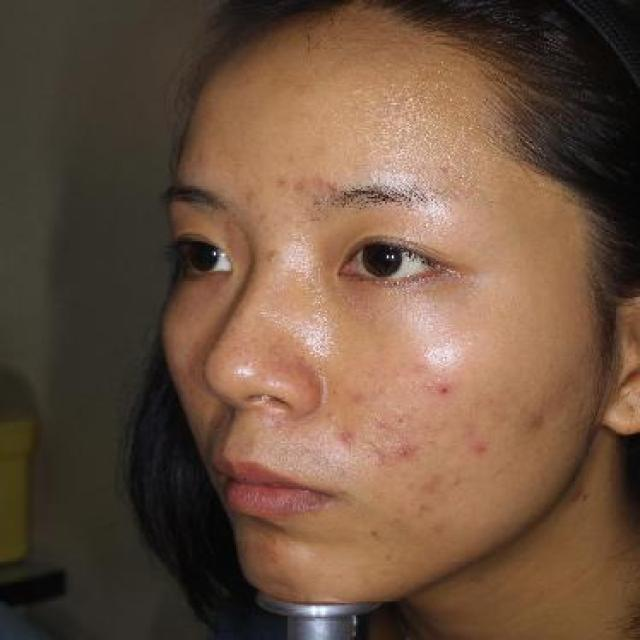Acne: (469, 436, 496, 462)
Blackheads: (428, 379, 465, 403)
